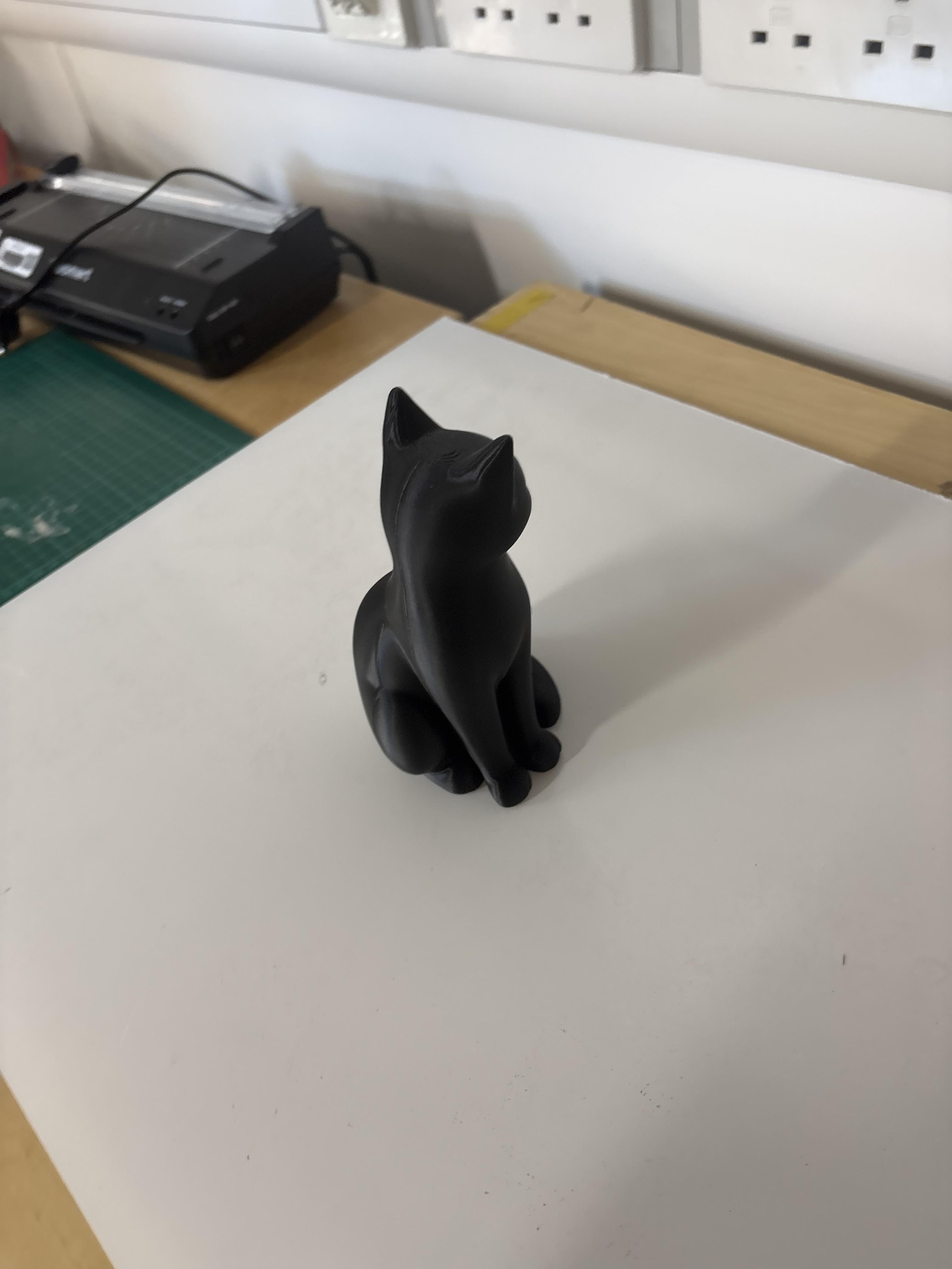cat: (354, 388, 560, 806)
